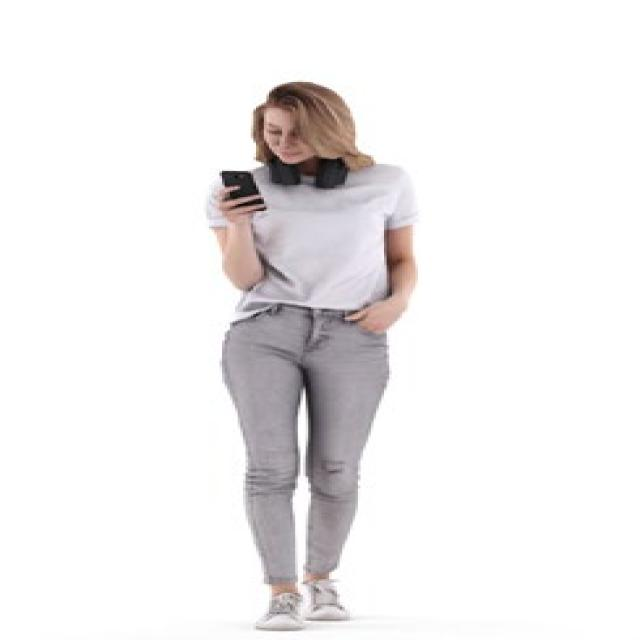standing: (205, 80, 431, 634)
